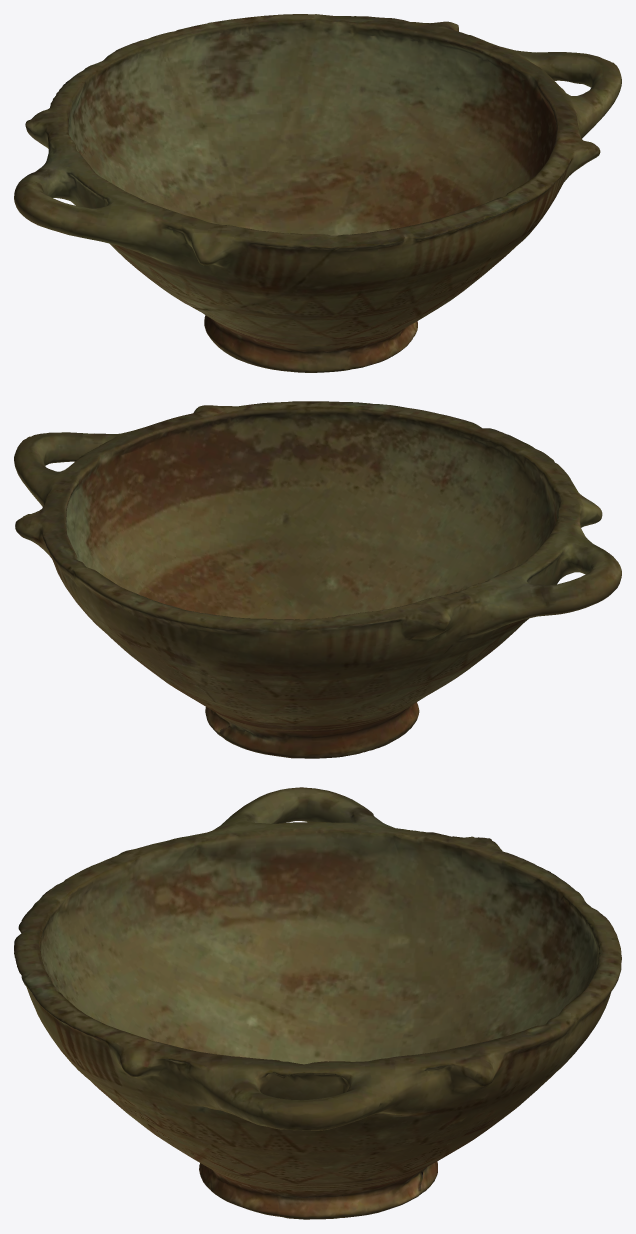
Rendered from si-kylix.glb.
The picture shows the model from 3 angles, top to bottom: view 1: azimuth 30°, elevation 25°; view 2: azimuth 150°, elevation 25°; view 3: azimuth 270°, elevation 25°; orthographic projection. The views are drawn at different scales.
Parts seen in each view (by area): view 1: sourced_fit; view 2: sourced_fit; view 3: sourced_fit.
Boxes of the visible parts, bbox=[...] form: sourced_fit: bbox=[14, 14, 621, 372]; sourced_fit: bbox=[14, 401, 621, 758]; sourced_fit: bbox=[14, 787, 621, 1219].
Size of the model in its own units: 0.2218 by 0.075 by 0.1783.
1 material, 1 textured.
